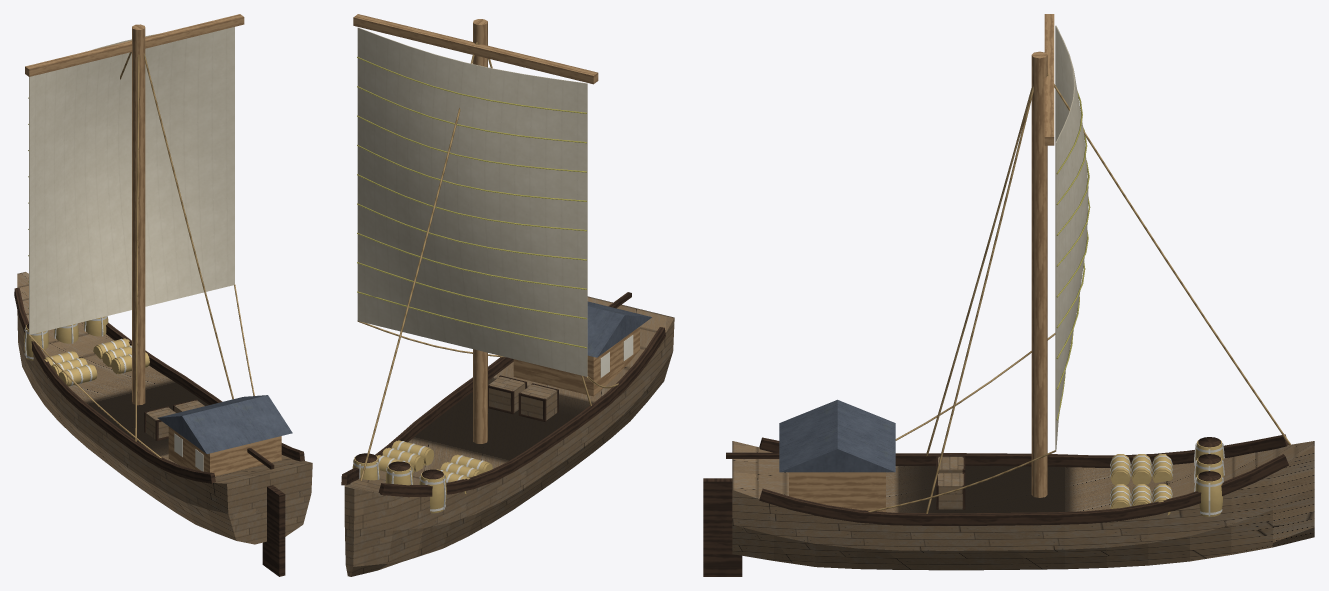
The model's file is HO_Harbour_Boat_Cargo.fbx.
The picture shows the model from 3 angles, left to right: view 1: azimuth 30°, elevation 25°; view 2: azimuth 150°, elevation 25°; view 3: azimuth 270°, elevation 25°; orthographic projection. The views are drawn at different scales.
Parts seen in each view (by area): view 1: HO_Harbour_Boat_Cargo__Sail_Canvas, HO_Harbour_Boat_Cargo__Wood_Planks, HO_Harbour_Boat_Cargo__Timber_Light, HO_Harbour_Boat_Cargo__Timber_Dark, HO_Harbour_Boat_Cargo__RoofTile_Clay, HO_Harbour_Boat_Cargo__Straw, HO_Harbour_Boat_Cargo__Rope, HO_Harbour_Boat_Cargo__Cloth_White; view 2: HO_Harbour_Boat_Cargo__Sail_Canvas, HO_Harbour_Boat_Cargo__Wood_Planks, HO_Harbour_Boat_Cargo__Timber_Light, HO_Harbour_Boat_Cargo__Timber_Dark, HO_Harbour_Boat_Cargo__Bamboo, HO_Harbour_Boat_Cargo__Straw, HO_Harbour_Boat_Cargo__RoofTile_Clay, HO_Harbour_Boat_Cargo__Rope, HO_Harbour_Boat_Cargo__Cloth_White; view 3: HO_Harbour_Boat_Cargo__Wood_Planks, HO_Harbour_Boat_Cargo__Timber_Dark, HO_Harbour_Boat_Cargo__Timber_Light, HO_Harbour_Boat_Cargo__Sail_Canvas, HO_Harbour_Boat_Cargo__RoofTile_Clay, HO_Harbour_Boat_Cargo__Rope, HO_Harbour_Boat_Cargo__Straw, HO_Harbour_Boat_Cargo__Cloth_White, HO_Harbour_Boat_Cargo__Bamboo.
Boxes of the visible parts, x1,y1,x2,y2 form: HO_Harbour_Boat_Cargo__Sail_Canvas: [29, 27, 234, 334]; HO_Harbour_Boat_Cargo__Wood_Planks: [17, 272, 312, 544]; HO_Harbour_Boat_Cargo__Timber_Light: [25, 14, 281, 476]; HO_Harbour_Boat_Cargo__Timber_Dark: [14, 288, 304, 576]; HO_Harbour_Boat_Cargo__RoofTile_Clay: [157, 395, 292, 453]; HO_Harbour_Boat_Cargo__Straw: [24, 316, 149, 386]; HO_Harbour_Boat_Cargo__Rope: [28, 52, 254, 458]; HO_Harbour_Boat_Cargo__Cloth_White: [24, 316, 131, 386]; HO_Harbour_Boat_Cargo__Sail_Canvas: [357, 27, 587, 376]; HO_Harbour_Boat_Cargo__Wood_Planks: [344, 296, 674, 576]; HO_Harbour_Boat_Cargo__Timber_Light: [353, 14, 639, 443]; HO_Harbour_Boat_Cargo__Timber_Dark: [341, 292, 665, 497]; HO_Harbour_Boat_Cargo__Bamboo: [357, 57, 586, 348]; HO_Harbour_Boat_Cargo__Straw: [352, 440, 492, 513]; HO_Harbour_Boat_Cargo__RoofTile_Clay: [587, 301, 651, 357]; HO_Harbour_Boat_Cargo__Rope: [357, 42, 618, 480]; HO_Harbour_Boat_Cargo__Cloth_White: [353, 441, 484, 511]; HO_Harbour_Boat_Cargo__Wood_Planks: [732, 441, 1314, 570]; HO_Harbour_Boat_Cargo__Timber_Dark: [703, 434, 1288, 576]; HO_Harbour_Boat_Cargo__Timber_Light: [789, 14, 1054, 511]; HO_Harbour_Boat_Cargo__Sail_Canvas: [1055, 25, 1088, 450]; HO_Harbour_Boat_Cargo__RoofTile_Clay: [779, 399, 895, 472]; HO_Harbour_Boat_Cargo__Rope: [868, 73, 1290, 513]; HO_Harbour_Boat_Cargo__Straw: [1110, 439, 1223, 516]; HO_Harbour_Boat_Cargo__Cloth_White: [1110, 443, 1224, 516]; HO_Harbour_Boat_Cargo__Bamboo: [1056, 91, 1090, 420].
Size of the model in its own units: 18 by 35.5 by 37.8.
